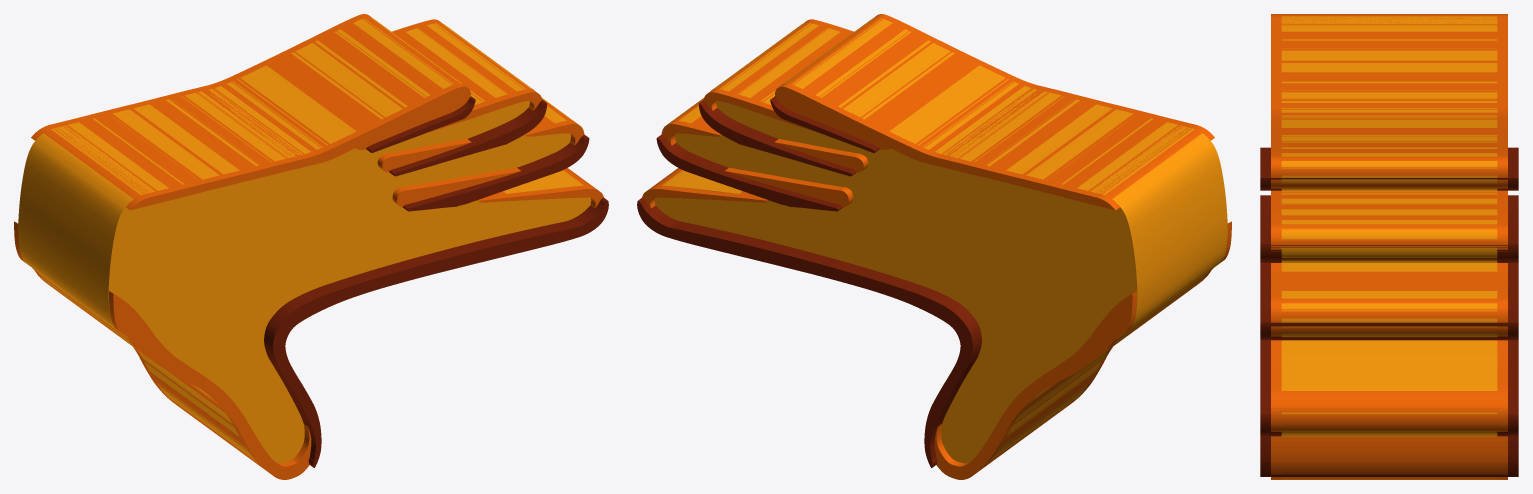
The model's file is U+1FAF3.obj.
3 renders of one model, left to right at view 1: azimuth 30°, elevation 25°; view 2: azimuth 150°, elevation 25°; view 3: azimuth 270°, elevation 25°, orthographic. The views are drawn at different scales.
Visible parts, largest first — view 1: U+1FAF3_layer00_obj00, U+1FAF3_layer01_obj03, U+1FAF3_layer02_obj02, U+1FAF3_layer01_obj02, U+1FAF3_layer01_obj00, U+1FAF3_layer02_obj00, U+1FAF3_layer02_obj01, U+1FAF3_layer02_obj03, U+1FAF3_layer01_obj01; view 2: U+1FAF3_layer00_obj00, U+1FAF3_layer01_obj03, U+1FAF3_layer02_obj02, U+1FAF3_layer01_obj02, U+1FAF3_layer01_obj00, U+1FAF3_layer02_obj00, U+1FAF3_layer02_obj01, U+1FAF3_layer02_obj03, U+1FAF3_layer01_obj01; view 3: U+1FAF3_layer00_obj00, U+1FAF3_layer01_obj03, U+1FAF3_layer01_obj00, U+1FAF3_layer01_obj02, U+1FAF3_layer02_obj00, U+1FAF3_layer02_obj02, U+1FAF3_layer02_obj01, U+1FAF3_layer02_obj03.
Part boxes in pixels (left/top/right/bottom): U+1FAF3_layer00_obj00: left=18, top=17, right=591, bottom=463; U+1FAF3_layer01_obj03: left=31, top=14, right=542, bottom=210; U+1FAF3_layer02_obj02: left=264, top=197, right=608, bottom=467; U+1FAF3_layer01_obj02: left=14, top=221, right=311, bottom=479; U+1FAF3_layer01_obj00: left=392, top=99, right=603, bottom=208; U+1FAF3_layer02_obj00: left=403, top=134, right=589, bottom=211; U+1FAF3_layer02_obj01: left=389, top=100, right=546, bottom=176; U+1FAF3_layer02_obj03: left=366, top=96, right=475, bottom=152; U+1FAF3_layer01_obj01: left=377, top=139, right=471, bottom=172; U+1FAF3_layer00_obj00: left=654, top=17, right=1227, bottom=463; U+1FAF3_layer01_obj03: left=703, top=14, right=1214, bottom=210; U+1FAF3_layer02_obj02: left=637, top=197, right=981, bottom=467; U+1FAF3_layer01_obj02: left=934, top=221, right=1231, bottom=479; U+1FAF3_layer01_obj00: left=642, top=99, right=853, bottom=208; U+1FAF3_layer02_obj00: left=656, top=134, right=842, bottom=211; U+1FAF3_layer02_obj01: left=699, top=100, right=856, bottom=176; U+1FAF3_layer02_obj03: left=770, top=96, right=879, bottom=152; U+1FAF3_layer01_obj01: left=774, top=139, right=868, bottom=172; U+1FAF3_layer00_obj00: left=1281, top=16, right=1497, bottom=479; U+1FAF3_layer01_obj03: left=1271, top=14, right=1507, bottom=251; U+1FAF3_layer01_obj00: left=1271, top=263, right=1507, bottom=431; U+1FAF3_layer01_obj02: left=1271, top=436, right=1507, bottom=479; U+1FAF3_layer02_obj00: left=1260, top=263, right=1518, bottom=340; U+1FAF3_layer02_obj02: left=1260, top=340, right=1518, bottom=476; U+1FAF3_layer02_obj01: left=1260, top=195, right=1518, bottom=262; U+1FAF3_layer02_obj03: left=1260, top=147, right=1518, bottom=190.
Size of the model in its own units: 0.314 by 0.214 by 0.12.
